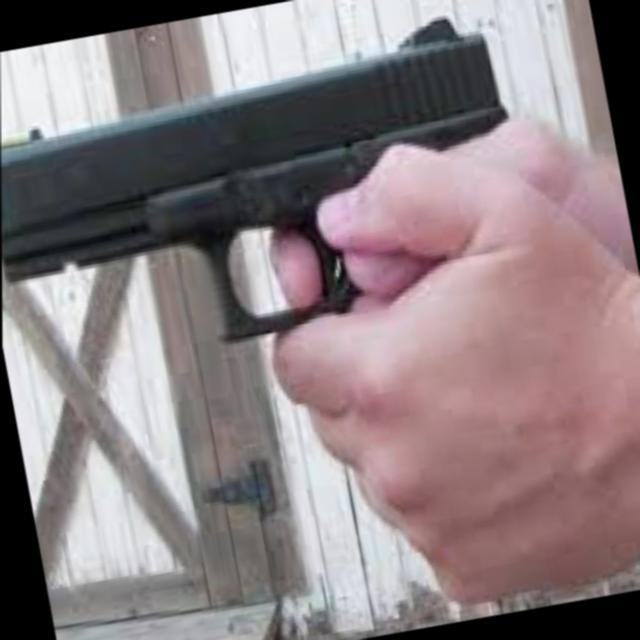weapon: (0, 4, 540, 382)
